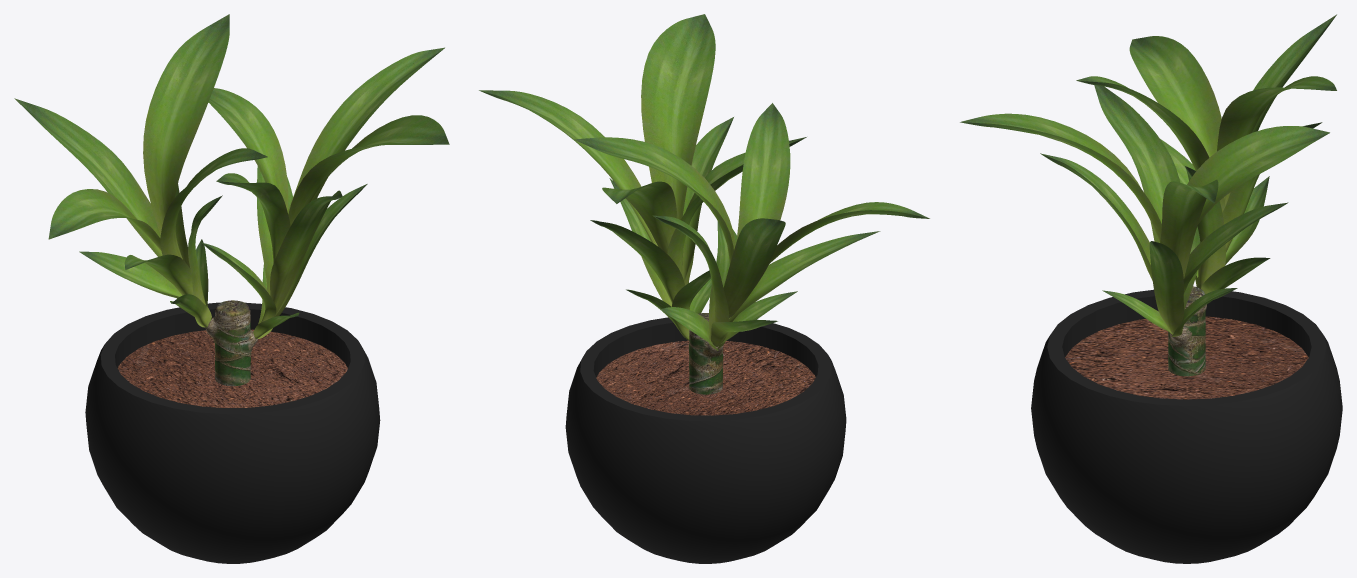
File: Grass Bomb (Flat).fbx
3 renders of one model, left to right at view 1: azimuth 30°, elevation 25°; view 2: azimuth 150°, elevation 25°; view 3: azimuth 270°, elevation 25°, orthographic. The views are drawn at different scales.
Parts seen in each view (by area): view 1: Pot, Plant, Soil; view 2: Plant, Pot, Soil; view 3: Pot, Plant, Soil.
Part boxes in pixels (left/top/right/bottom): Pot: left=85, top=302, right=380, bottom=563; Plant: left=14, top=14, right=449, bottom=386; Soil: left=117, top=329, right=347, bottom=407; Plant: left=479, top=14, right=929, bottom=394; Pot: left=565, top=317, right=846, bottom=563; Soil: left=596, top=340, right=815, bottom=415; Pot: left=1031, top=289, right=1342, bottom=563; Plant: left=960, top=14, right=1336, bottom=376; Soil: left=1065, top=316, right=1308, bottom=399.
Bounding box in the file's own units: 341 × 349 × 246.
Materials: 5 (4 with a texture image).
